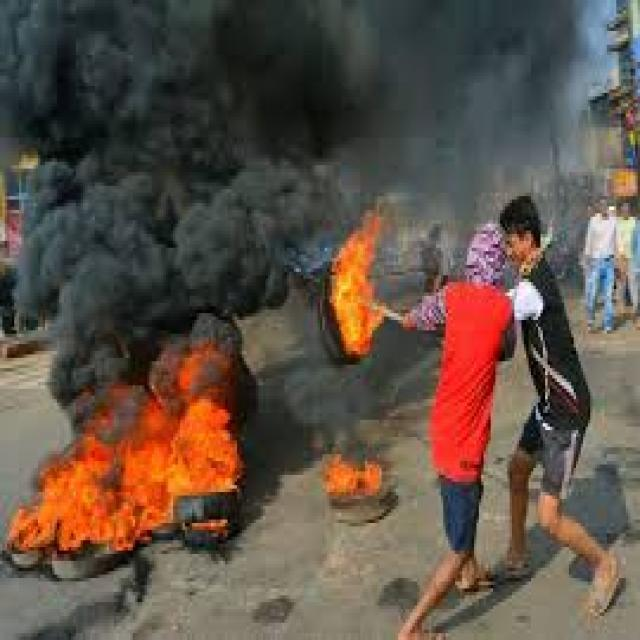Fire: (9, 347, 240, 547), (331, 210, 382, 359), (326, 456, 384, 496)
Smoke: (0, 0, 327, 341), (330, 0, 584, 205)
